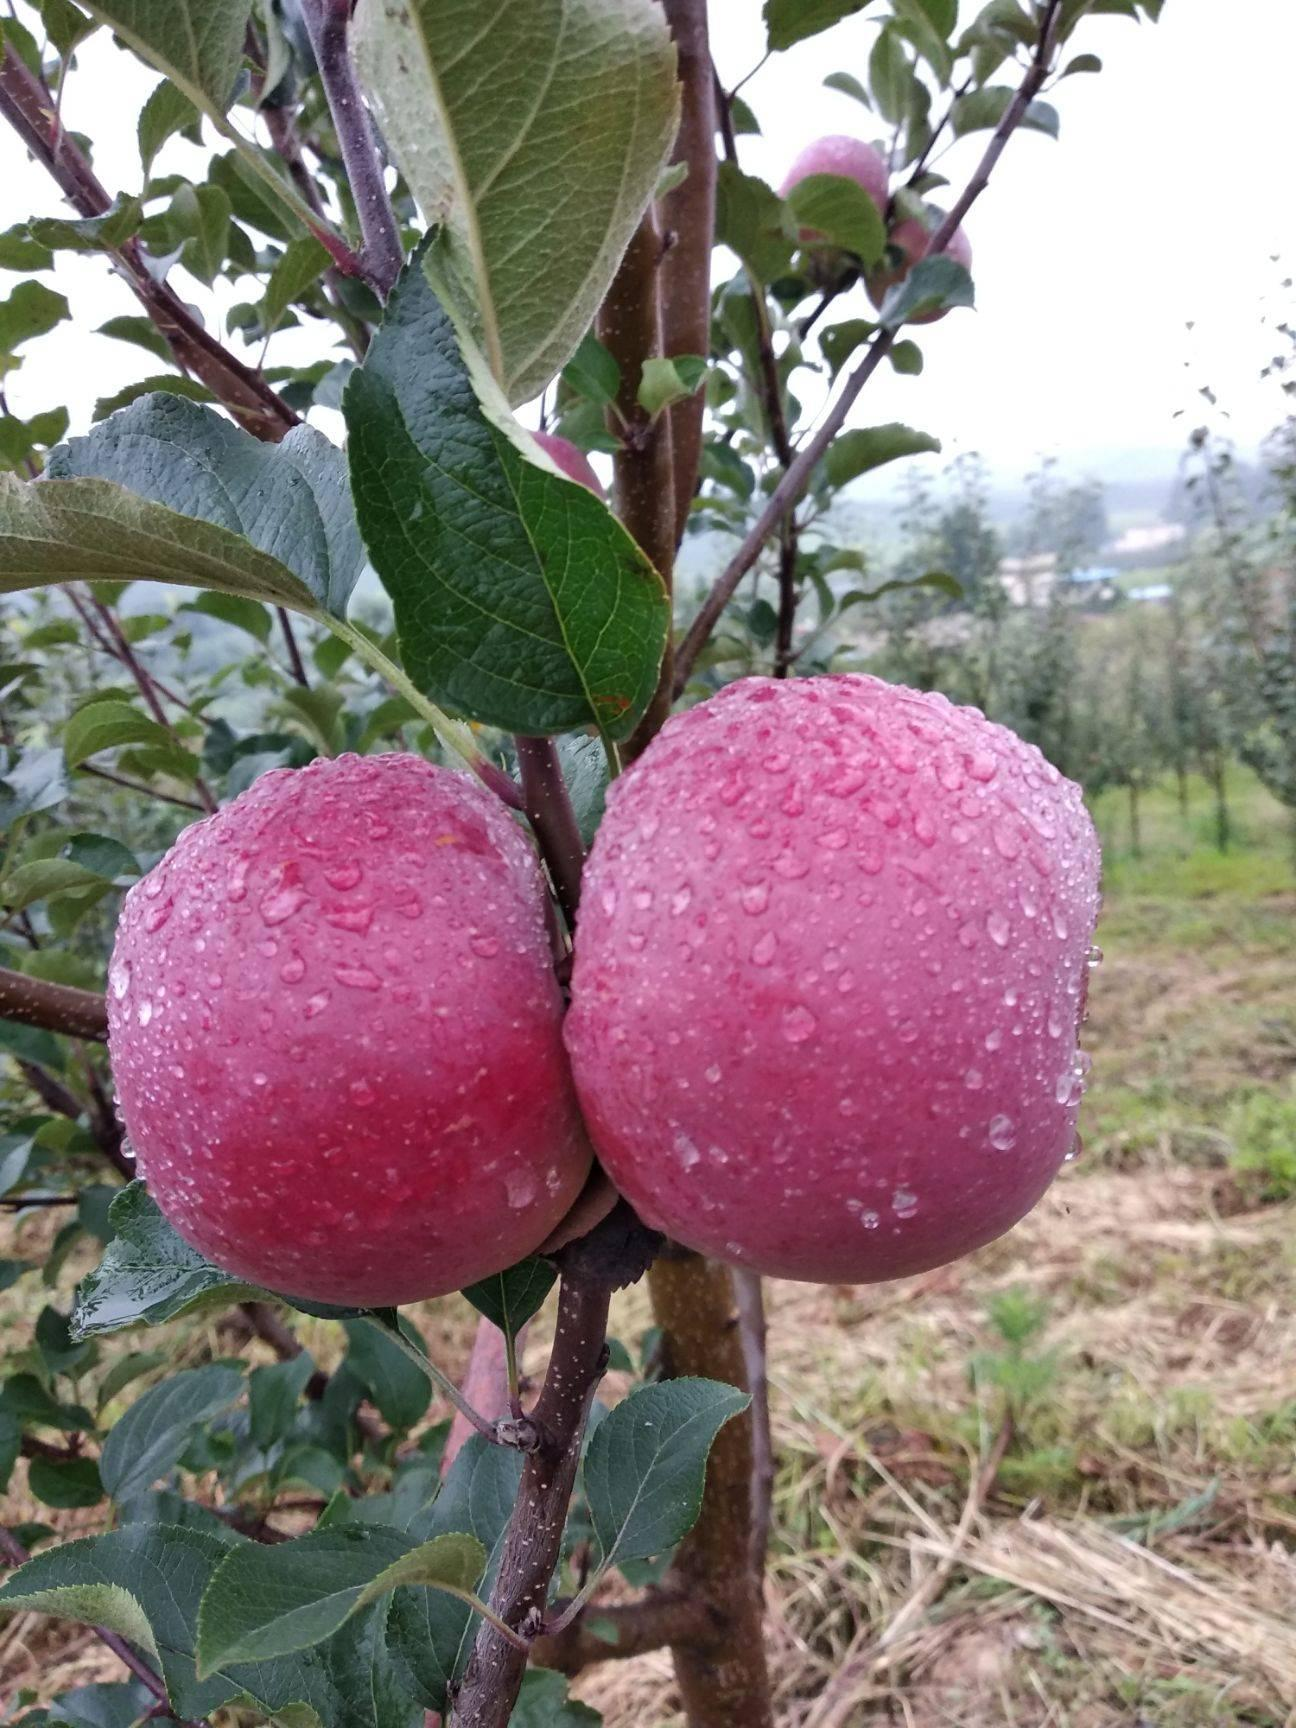apple: (565, 676, 1108, 1284), (103, 748, 589, 1293)
